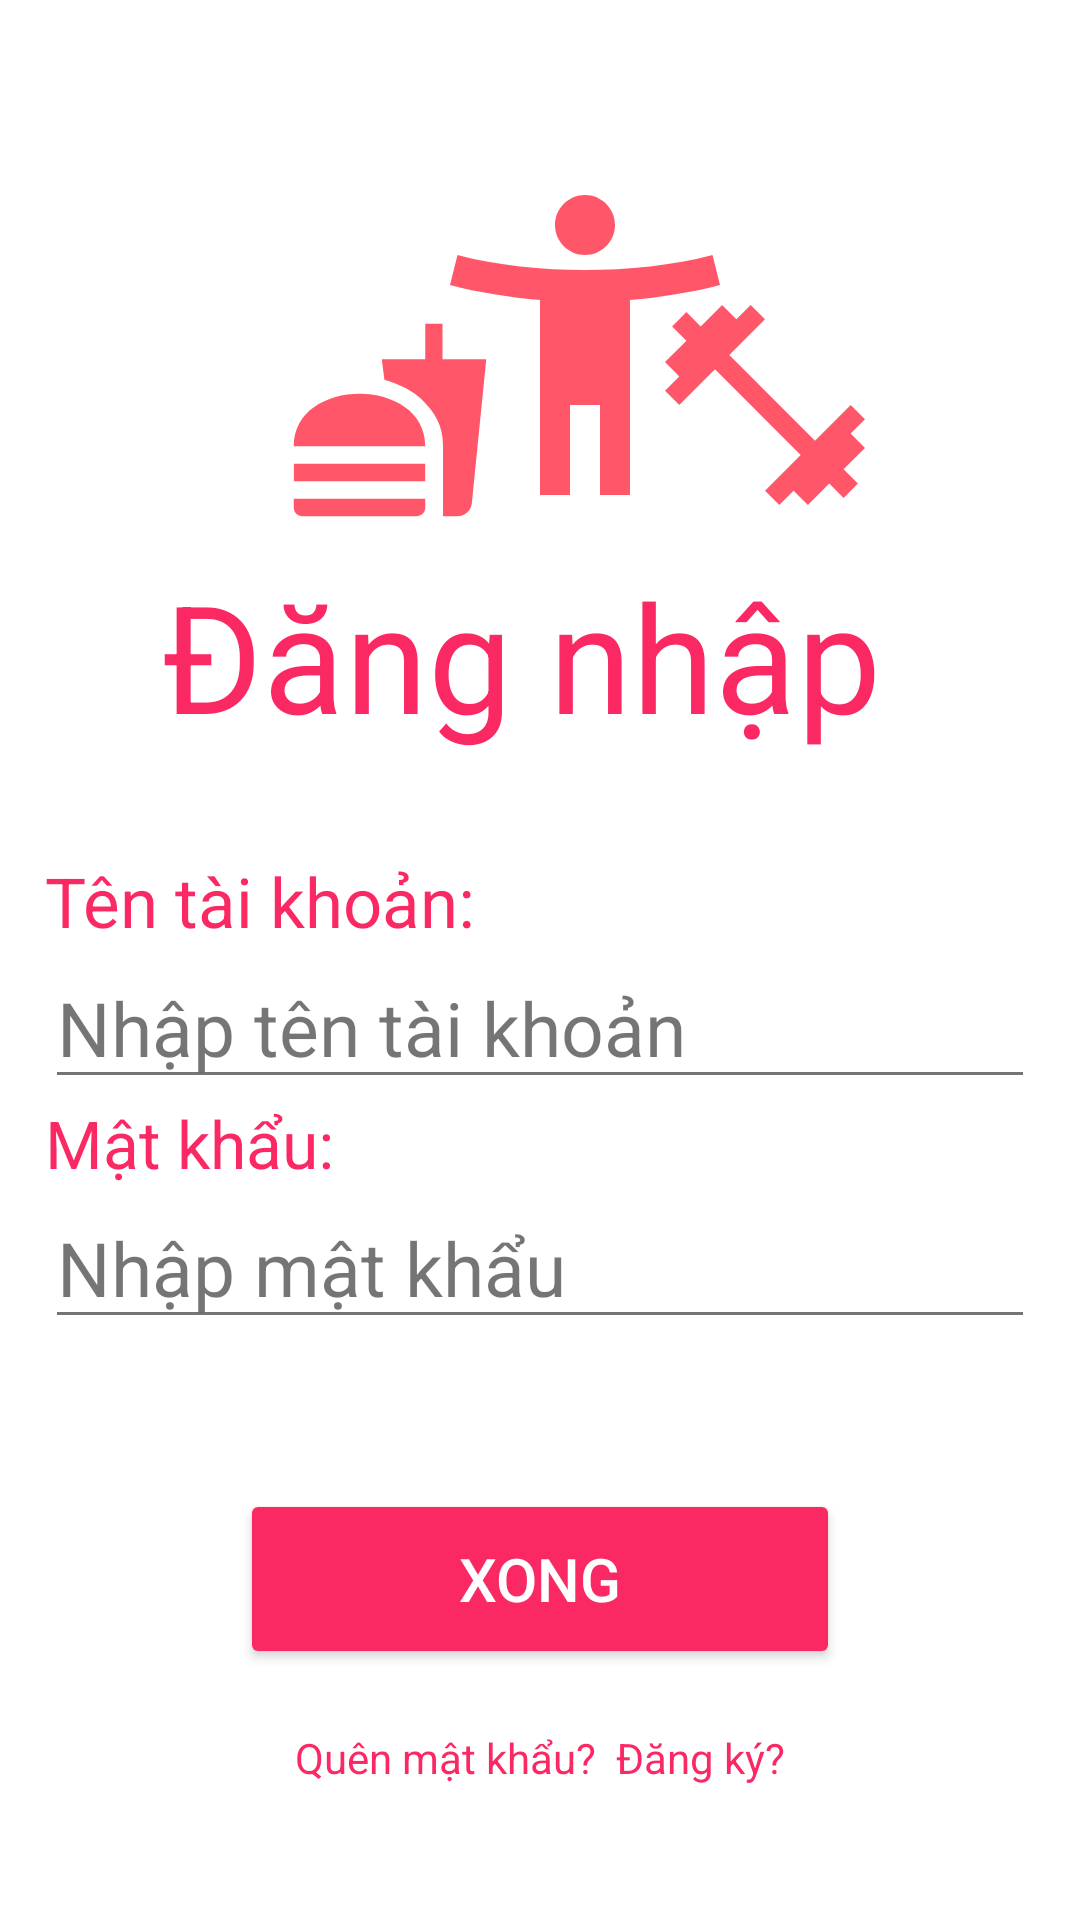

Named icons in this screenshot (1080px x 1920px) and their centers, [x,y]:
cucta: [765,405]
doan: [390,420]
healthy: [585,345]
